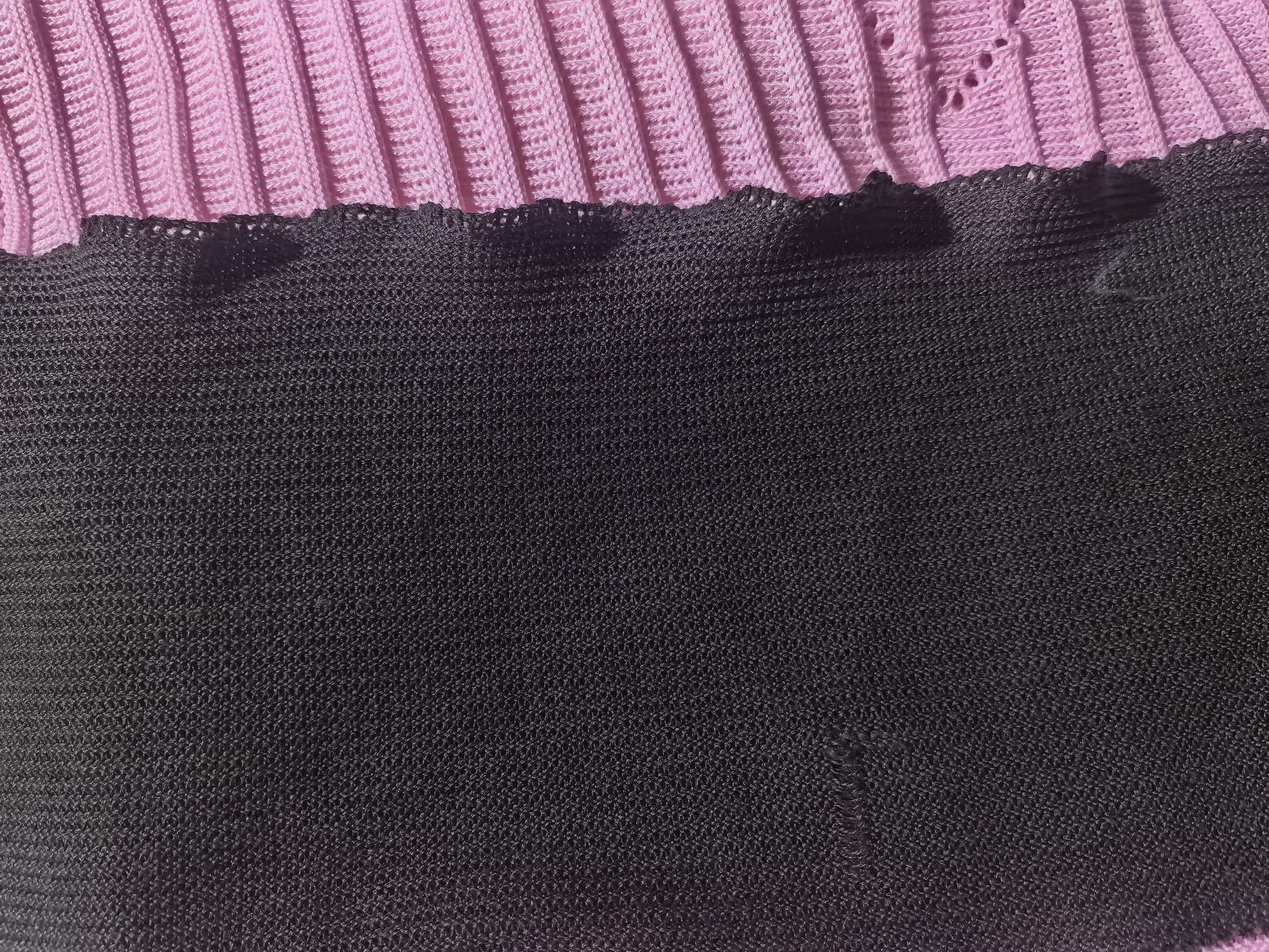missing_stitch_1: (816, 725, 886, 873)
missing_stitch_2: (939, 33, 1020, 112), (855, 1, 903, 61)
